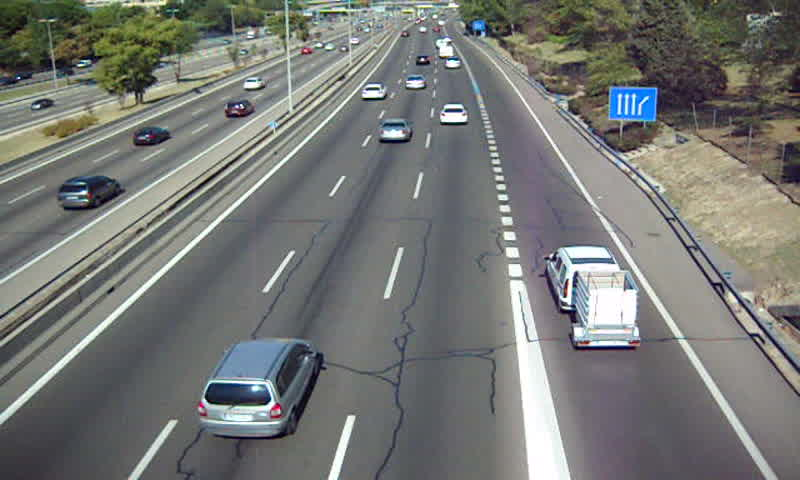car: (196, 338, 319, 437), (379, 119, 412, 143), (439, 104, 468, 125), (361, 84, 387, 102), (403, 75, 427, 91), (445, 57, 462, 70)
van: (544, 246, 623, 312)
